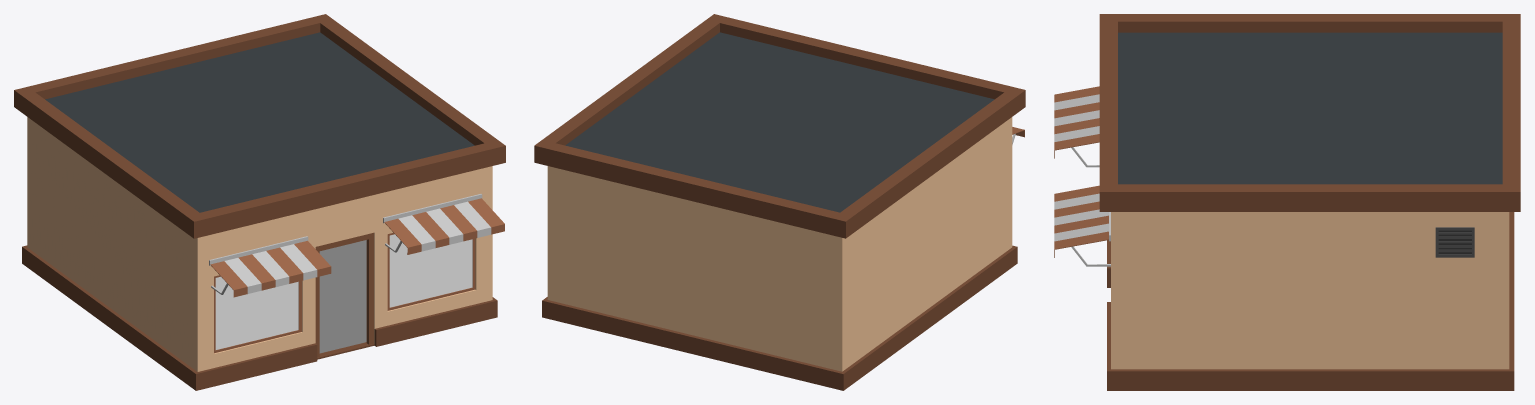
File: SmallHouse_01.fbx
3 views of the same model, side by side, from view 1: azimuth 30°, elevation 25°; view 2: azimuth 150°, elevation 25°; view 3: azimuth 270°, elevation 25° (orthographic). The views are drawn at different scales.
Parts seen in each view (by area): view 1: SmallHouse_01; view 2: SmallHouse_01; view 3: SmallHouse_01.
Part boxes in pixels (x1,y1,x2,y2): SmallHouse_01: (14,14,505,390); SmallHouse_01: (534,14,1025,390); SmallHouse_01: (1054,14,1520,390).
Bounding box in the file's own units: 634 × 336 × 703.
